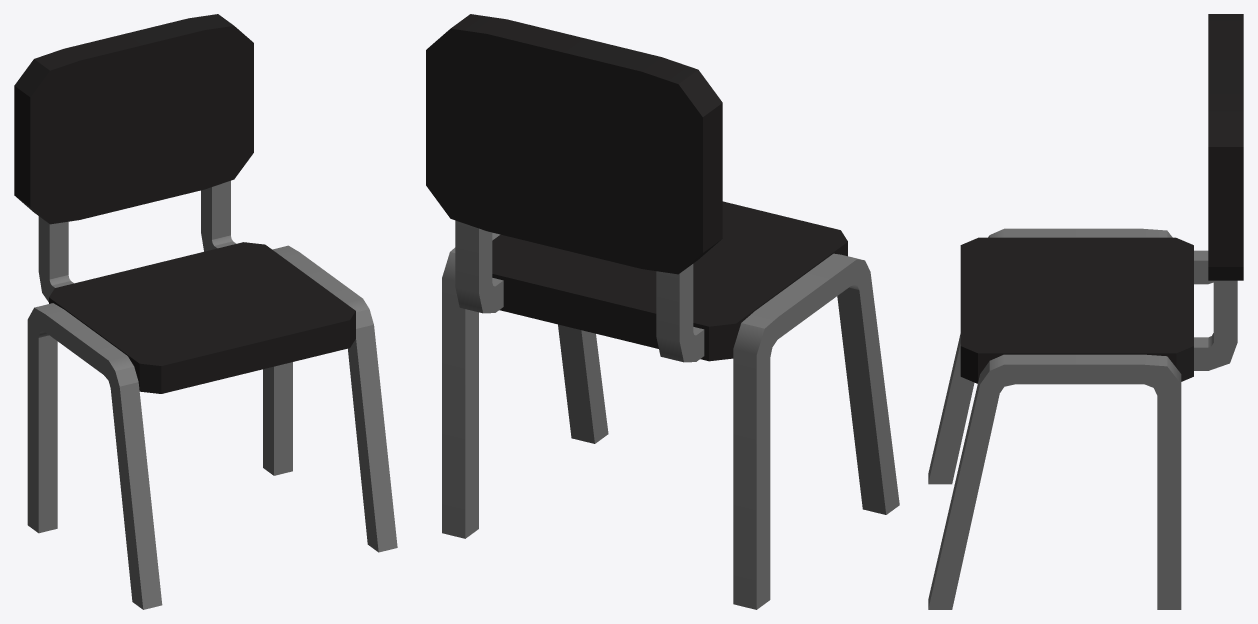
The model's file is chair1.fbx.
3 views of the same model, side by side, from view 1: azimuth 30°, elevation 25°; view 2: azimuth 150°, elevation 25°; view 3: azimuth 270°, elevation 25° (orthographic). The views are drawn at different scales.
Parts seen in each view (by area): view 1: Silla; view 2: Silla; view 3: Silla.
Part boxes in pixels (left/top/right/bottom): Silla: left=14, top=14, right=397, bottom=609; Silla: left=426, top=14, right=899, bottom=609; Silla: left=928, top=14, right=1243, bottom=609.
Bounding box in the file's own units: 0.3889 × 0.643 × 0.3817.
